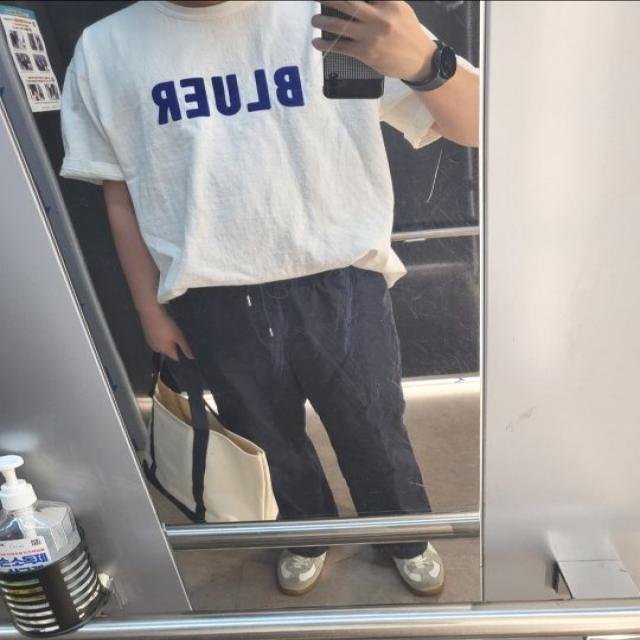denimpants: (160, 266, 430, 565)
shortsleeve: (57, 1, 470, 306)
